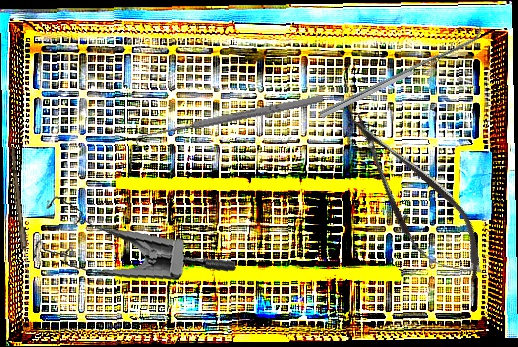Hook Surgical: (134, 92, 326, 151)
Micro Scissor: (328, 97, 502, 298)
Spatula Surgical: (316, 25, 486, 119)
Speculum: (26, 175, 237, 298)
Surgical Spoon: (7, 147, 34, 286)
